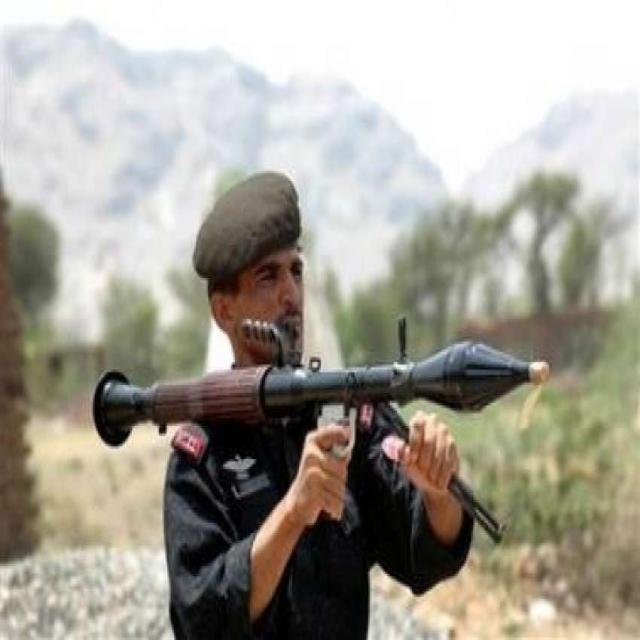bazooka: (83, 336, 562, 466)
